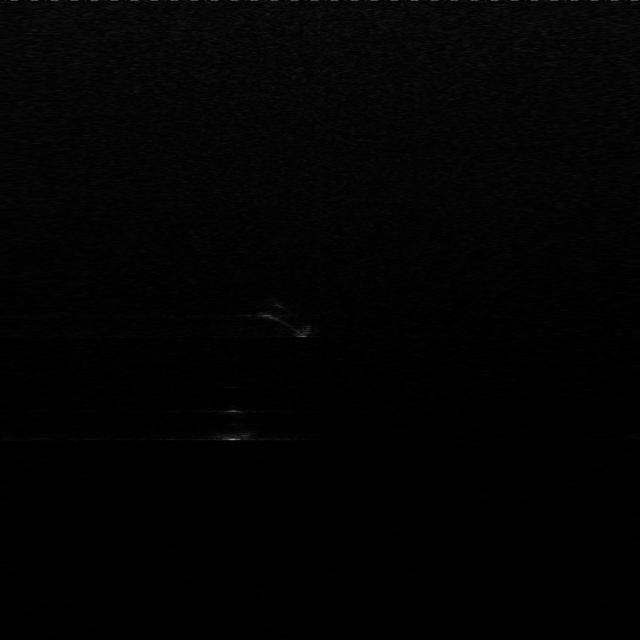ball: (187, 391, 273, 443)
tyre: (236, 298, 320, 347)
